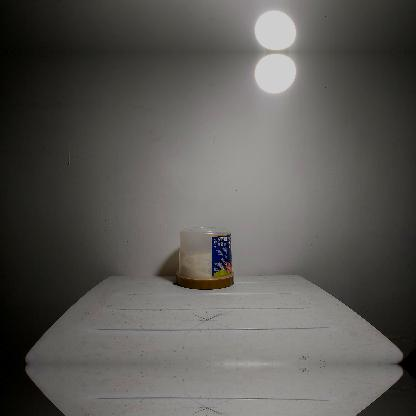Lady-s-Choice: (175, 224, 235, 288)
